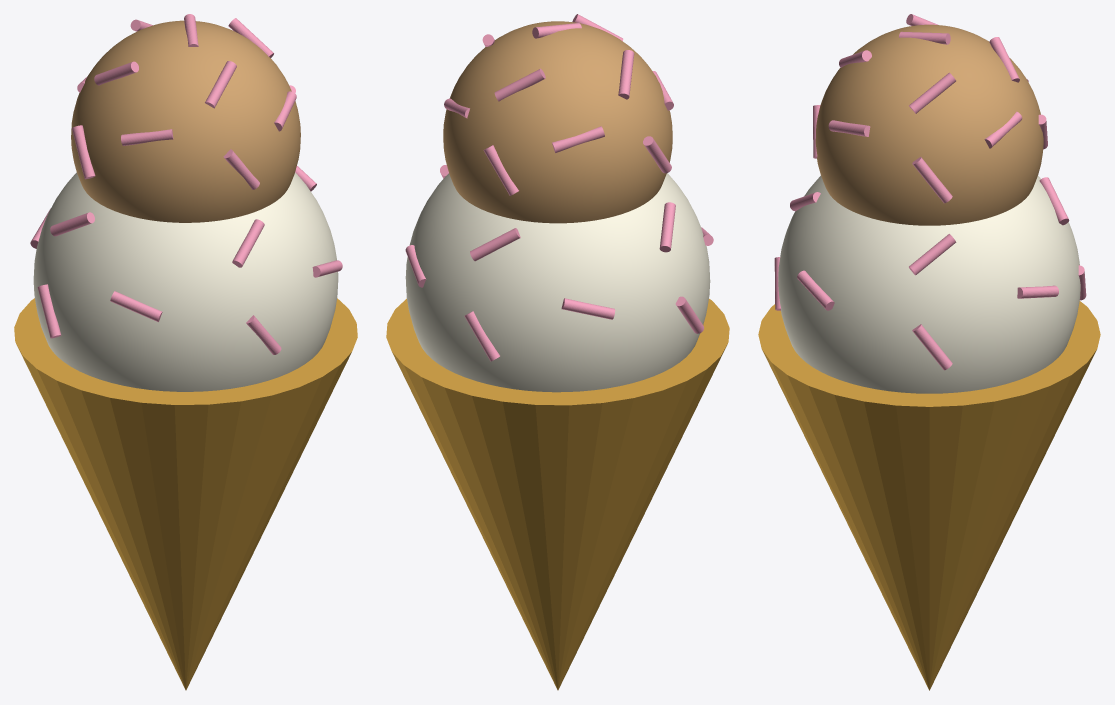
Rendered from IceCream.fbx.
3 views of the same model, side by side, from view 1: azimuth 30°, elevation 25°; view 2: azimuth 150°, elevation 25°; view 3: azimuth 270°, elevation 25° (orthographic).
Visible parts, largest first — view 1: Cone, Sphere, Sphere.001, Cylinder.020, Cylinder.005, Cylinder.007, Cylinder.010, Cylinder.008, Cylinder.021, Cylinder.006, Cylinder.004; view 2: Cone, Sphere, Sphere.001, Cylinder.019, Cylinder.001, Cylinder.003, Cylinder.006, Cylinder.018, Cylinder.004, Cylinder.002, Cylinder; view 3: Cone, Sphere, Sphere.001, Cylinder.013, Cylinder.015, Cylinder.012, Cylinder.014, Cylinder.023.
Boxes of the visible parts, box(x1,y1,x2,y2) form: Cone: box(14, 298, 357, 690); Sphere: box(33, 172, 338, 391); Sphere.001: box(71, 20, 300, 222); Cylinder.020: box(110, 291, 162, 321); Cylinder.005: box(37, 284, 61, 338); Cylinder.007: box(71, 125, 95, 179); Cylinder.010: box(232, 219, 264, 267); Cylinder.008: box(205, 61, 236, 108); Cylinder.021: box(121, 129, 173, 145); Cylinder.006: box(50, 212, 94, 236); Cylinder.004: box(94, 61, 138, 85); Cone: box(386, 298, 729, 690); Sphere: box(405, 173, 710, 392); Sphere.001: box(443, 21, 672, 223); Cylinder.019: box(561, 298, 615, 319); Cylinder.001: box(470, 228, 520, 261); Cylinder.003: box(494, 68, 545, 101); Cylinder.006: box(659, 202, 675, 252); Cylinder.018: box(552, 126, 604, 152); Cylinder.004: box(618, 50, 634, 99); Cylinder.002: box(464, 311, 499, 361); Cylinder: box(483, 145, 518, 195); Cone: box(758, 301, 1100, 690); Sphere: box(778, 175, 1080, 393); Sphere.001: box(815, 24, 1043, 225); Cylinder.013: box(909, 234, 956, 275); Cylinder.015: box(909, 72, 955, 113); Cylinder.012: box(912, 157, 952, 203); Cylinder.014: box(912, 324, 952, 370); Cylinder.023: box(797, 270, 834, 310).
Size of the model in its own units: 200 by 428 by 200.
